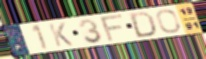1: (31, 24, 50, 51)
3: (78, 18, 104, 45)
D: (129, 10, 158, 39)
F: (99, 13, 126, 43)
K: (47, 21, 75, 48)
O: (155, 8, 183, 34)
